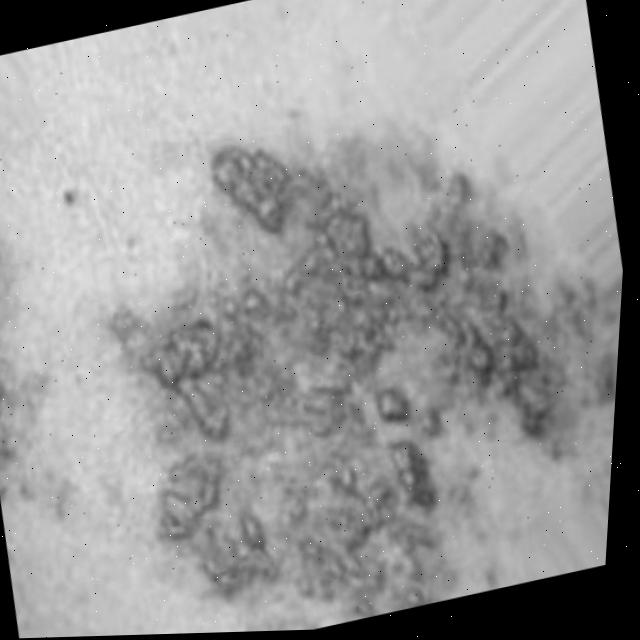Shingles: (63, 78, 613, 637), (0, 216, 77, 523)
